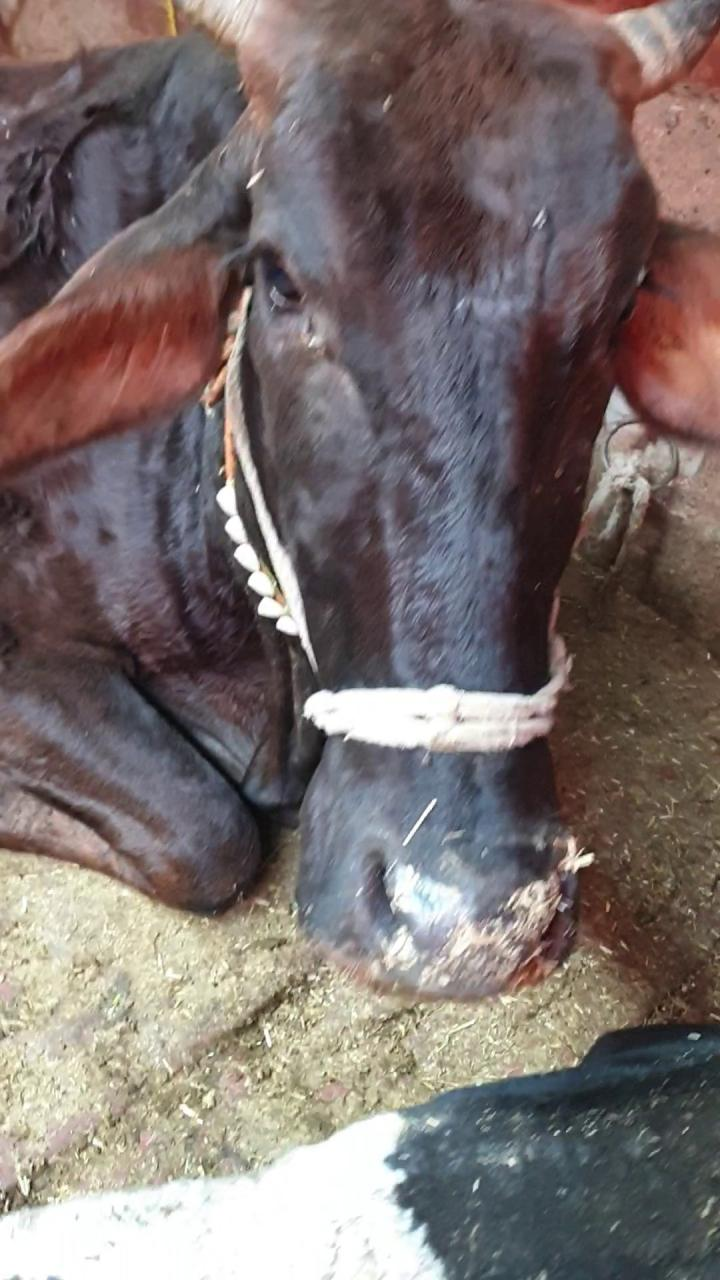cows: (207, 48, 630, 1002)
